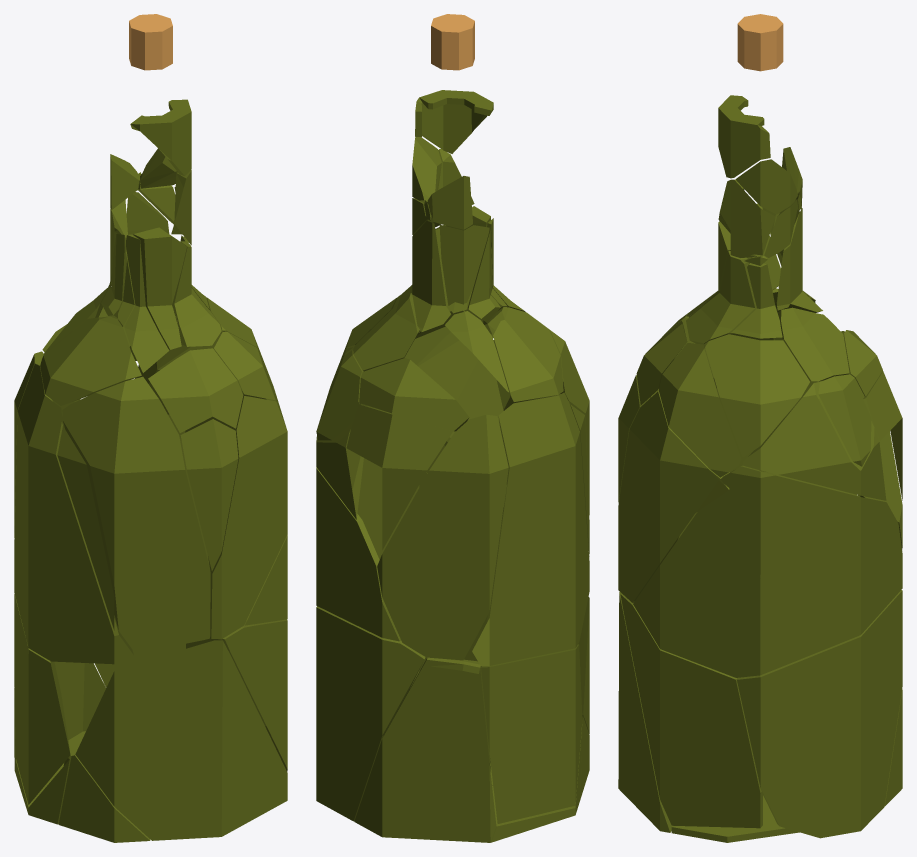
File: bottle-pieces4.fbx
3 renders of one model, left to right at view 1: azimuth 30°, elevation 25°; view 2: azimuth 150°, elevation 25°; view 3: azimuth 270°, elevation 25°, orthographic.
Visible parts, largest first — view 1: bottle_cell.008, bottle_cell.011, bottle_cell.013, bottle_cell.007, bottle_cell.012, bottle_cell.030, bottle_cell.006, bottle_cell.027, bottle_cell.009, bottle_cell.021, bottle_cell.010, bottle_cell.022 (+21 smaller); view 2: bottle_cell.013, bottle_cell.015, bottle_cell, bottle_cell.012, bottle_cell.002, bottle_cell.005, bottle_cell.001, bottle_cell.030, bottle_cell.007, bottle_cell.016, bottle_cell.051, bottle_cell.039 (+16 smaller); view 3: bottle_cell.005, bottle_cell.002, bottle_cell.006, bottle_cell.007, bottle_cell.026, bottle_cell.017, bottle_cell.019, bottle_cell.008, bottle_cell.025, bottle_cell.036, bottle_cell.051, bottle_cell.003 (+14 smaller).
Part boxes in pixels (<box>): bottle_cell.008: <box>75,640,287,840</box>; bottle_cell.011: <box>62,376,210,653</box>; bottle_cell.013: <box>14,364,133,664</box>; bottle_cell.007: <box>211,396,287,639</box>; bottle_cell.012: <box>14,594,70,804</box>; bottle_cell.030: <box>40,316,141,405</box>; bottle_cell.006: <box>220,619,287,771</box>; bottle_cell.027: <box>148,348,243,432</box>; bottle_cell.009: <box>180,419,238,570</box>; bottle_cell.021: <box>133,227,186,349</box>; bottle_cell.010: <box>58,755,150,842</box>; bottle_cell.022: <box>57,426,114,630</box>; bottle_cell.013: <box>472,392,589,665</box>; bottle_cell.015: <box>377,414,508,660</box>; bottle_cell: <box>354,657,496,842</box>; bottle_cell.012: <box>481,644,582,823</box>; bottle_cell.002: <box>316,606,425,821</box>; bottle_cell.005: <box>316,384,427,641</box>; bottle_cell.001: <box>346,404,455,549</box>; bottle_cell.030: <box>487,307,563,401</box>; bottle_cell.007: <box>384,326,506,522</box>; bottle_cell.016: <box>359,358,469,431</box>; bottle_cell.051: <box>415,90,493,153</box>; bottle_cell.039: <box>439,225,489,313</box>; bottle_cell.005: <box>633,465,902,677</box>; bottle_cell.002: <box>737,590,902,838</box>; bottle_cell.006: <box>620,594,762,828</box>; bottle_cell.007: <box>618,391,729,603</box>; bottle_cell.026: <box>704,334,809,457</box>; bottle_cell.017: <box>742,382,886,500</box>; bottle_cell.019: <box>658,343,741,477</box>; bottle_cell.008: <box>618,592,672,832</box>; bottle_cell.025: <box>774,307,849,381</box>; bottle_cell.036: <box>686,251,774,347</box>; bottle_cell.051: <box>718,95,770,178</box>; bottle_cell.003: <box>818,374,871,466</box>.
Size of the model in its own units: 0.4161 by 1.24 by 0.4161.
